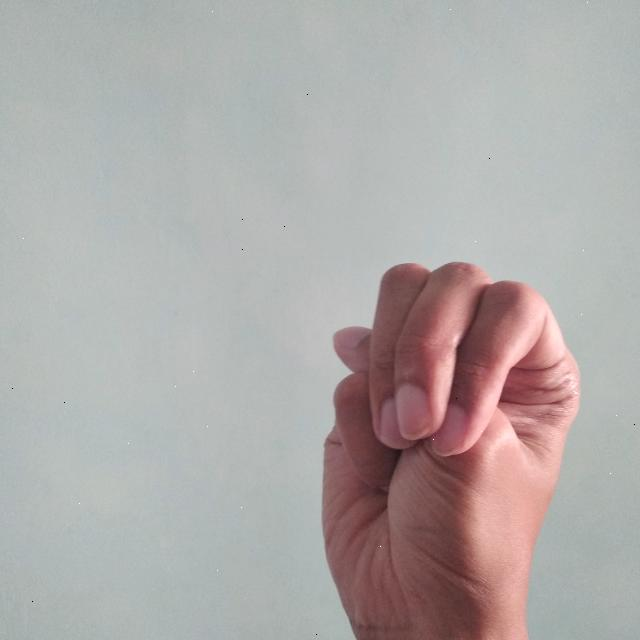M: (313, 249, 591, 640)
